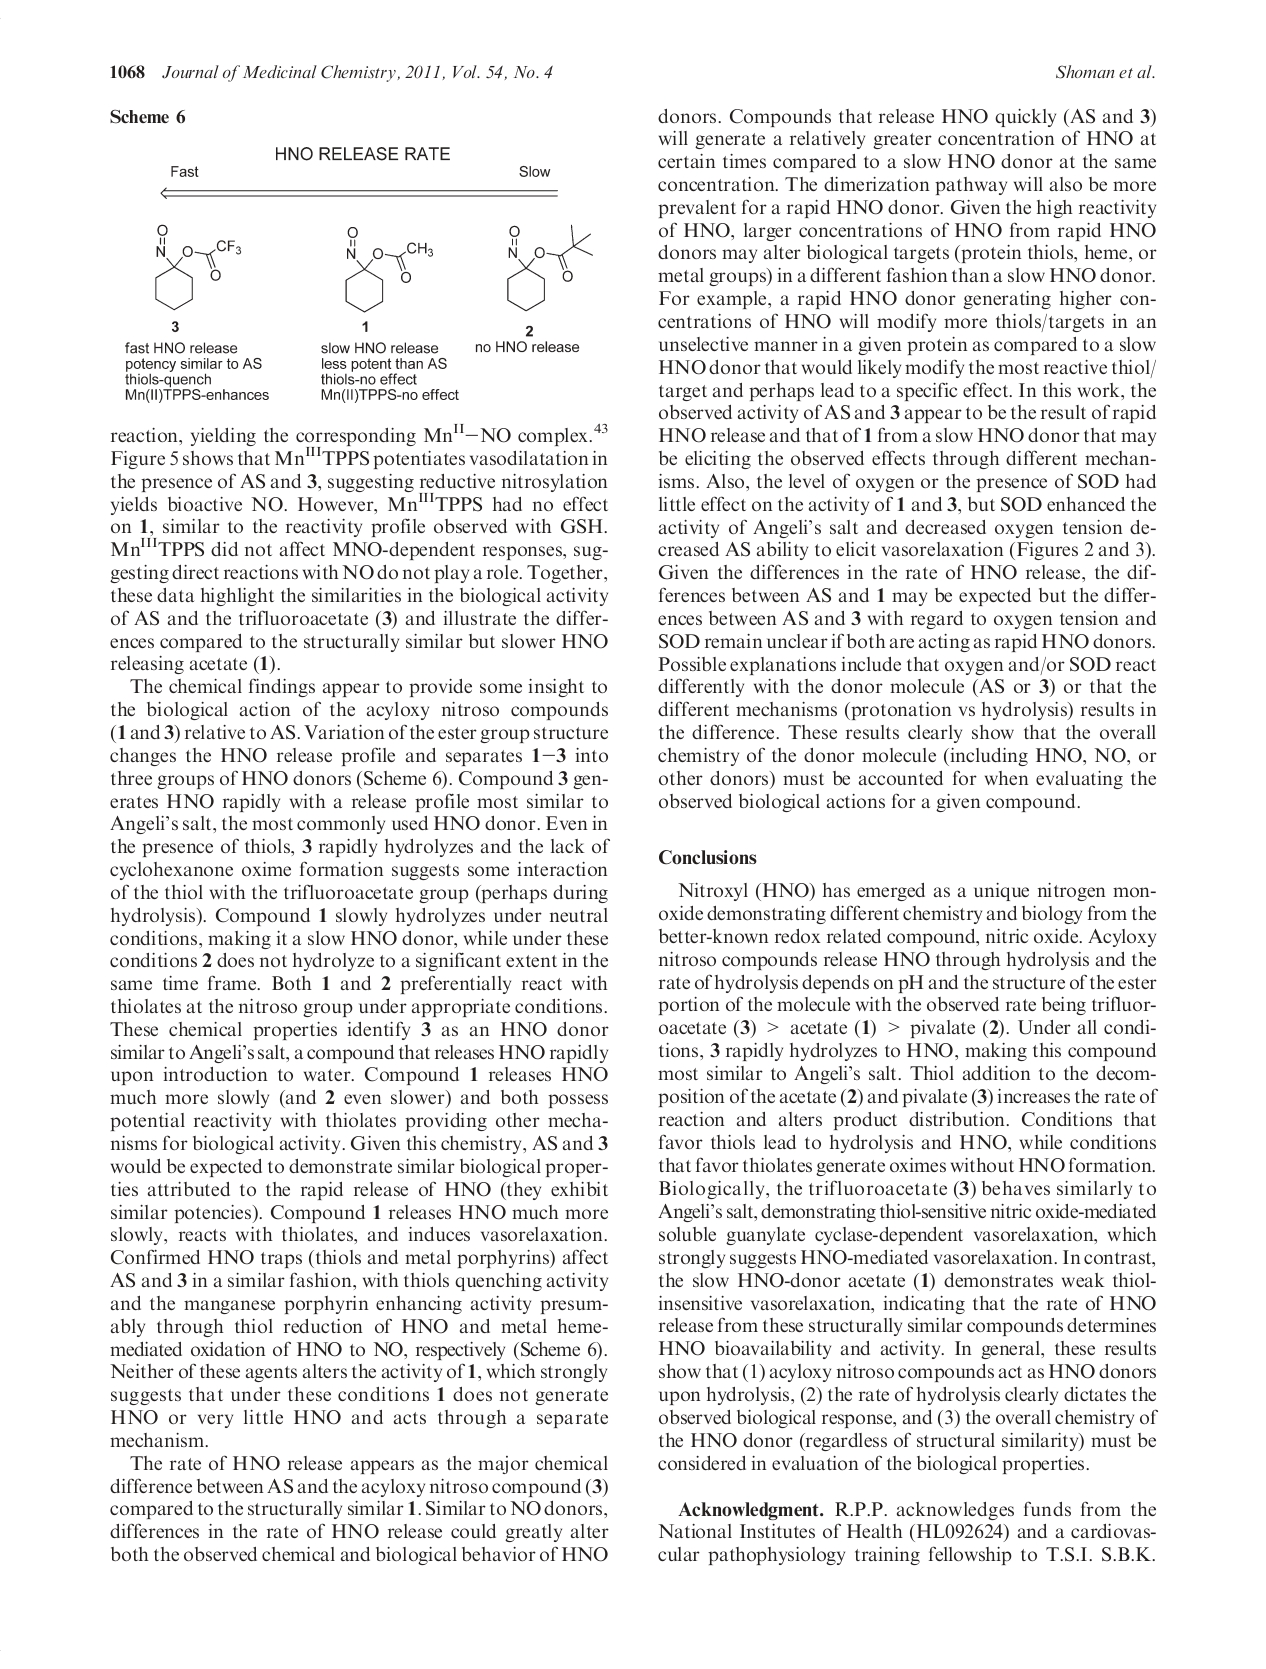exist_molecular: (327, 217, 436, 317), (138, 217, 243, 317), (493, 215, 596, 314)
